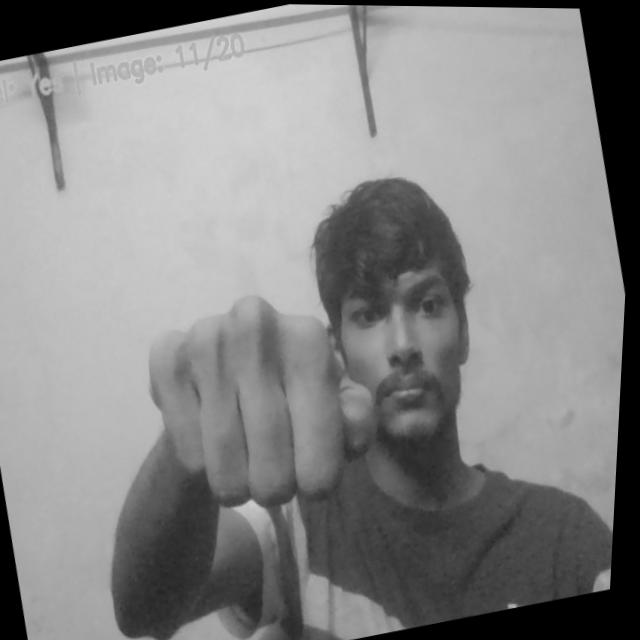Yes: (135, 270, 406, 529)
